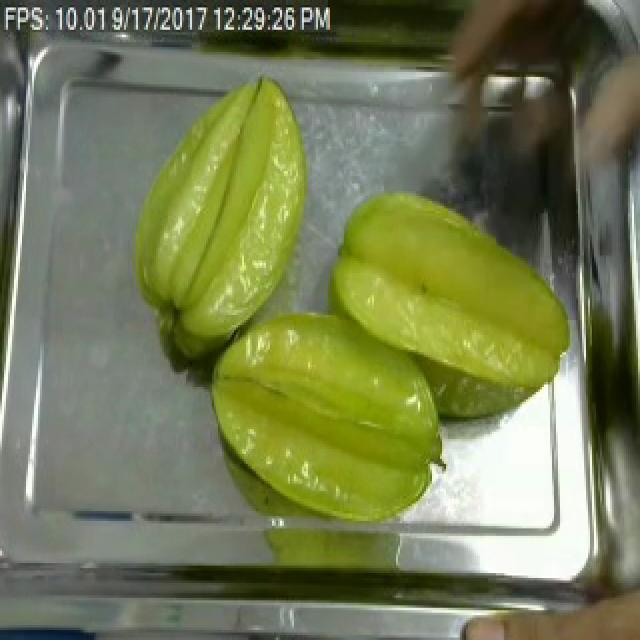fruit: (194, 296, 450, 534), (316, 176, 578, 407), (120, 67, 320, 357)
